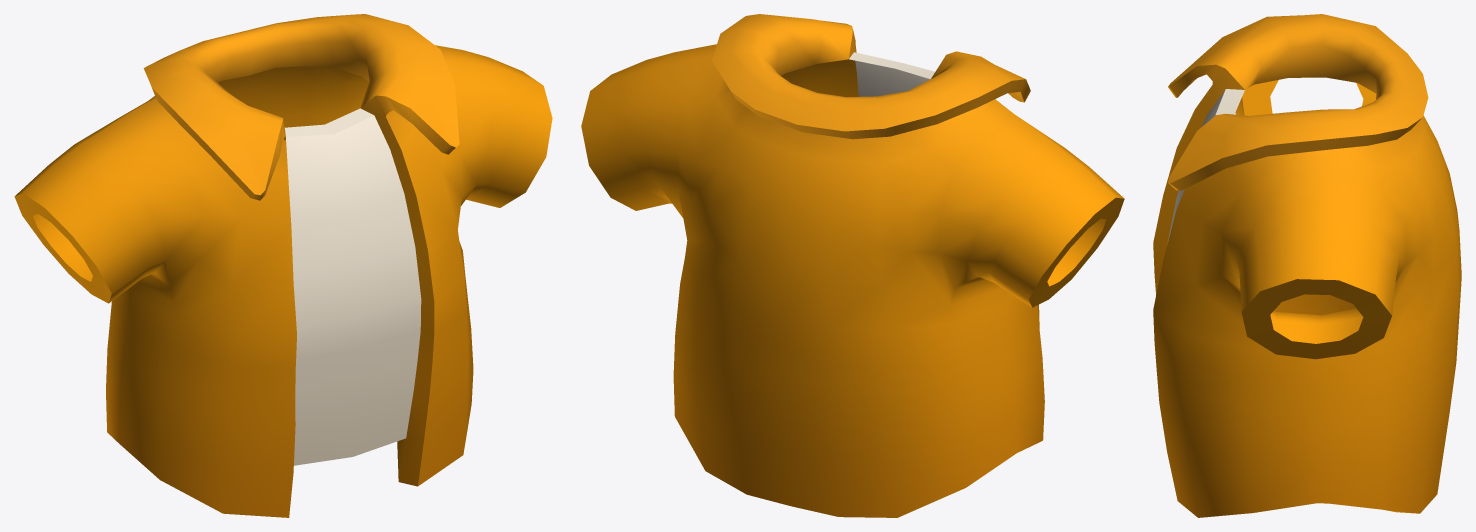
File: Outwear_47.glb
3 views of the same model, side by side, from view 1: azimuth 30°, elevation 25°; view 2: azimuth 150°, elevation 25°; view 3: azimuth 270°, elevation 25° (orthographic).
Parts seen in each view (by area): view 1: Outwear_47; view 2: Outwear_47; view 3: Outwear_47.
Part boxes in pixels (x1,y1,x2,y2): Outwear_47: [14, 14, 552, 517]; Outwear_47: [581, 14, 1124, 517]; Outwear_47: [1153, 14, 1461, 517].
Bounding box in the file's own units: 0.4075 × 0.3214 × 0.2177.
Materials: 1 (1 with a texture image).
